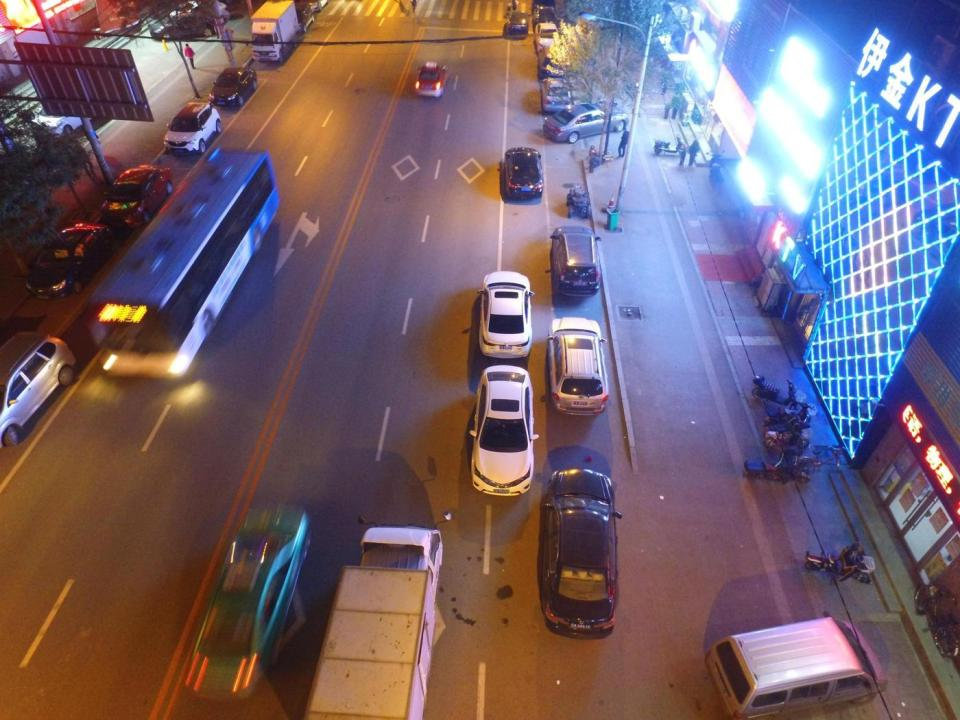bus: (86, 148, 279, 383)
car: (184, 505, 312, 700), (542, 470, 622, 638), (468, 364, 539, 494), (0, 332, 77, 447), (544, 316, 608, 415), (38, 218, 109, 296), (476, 270, 533, 359), (100, 163, 168, 229), (553, 226, 603, 300), (544, 104, 629, 141), (169, 100, 225, 152), (502, 148, 545, 202), (210, 67, 258, 105), (169, 0, 230, 25), (150, 16, 217, 38), (414, 60, 449, 100), (535, 46, 568, 80), (543, 78, 574, 110), (532, 22, 562, 52), (506, 9, 530, 37), (291, 4, 315, 29), (533, 5, 559, 28)
truck: (307, 523, 443, 717), (249, 0, 297, 62)
van: (705, 610, 891, 718)
